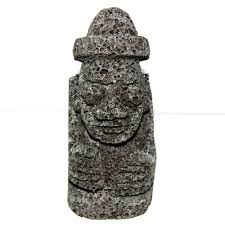Stone Statue: (45, 5, 165, 223)
